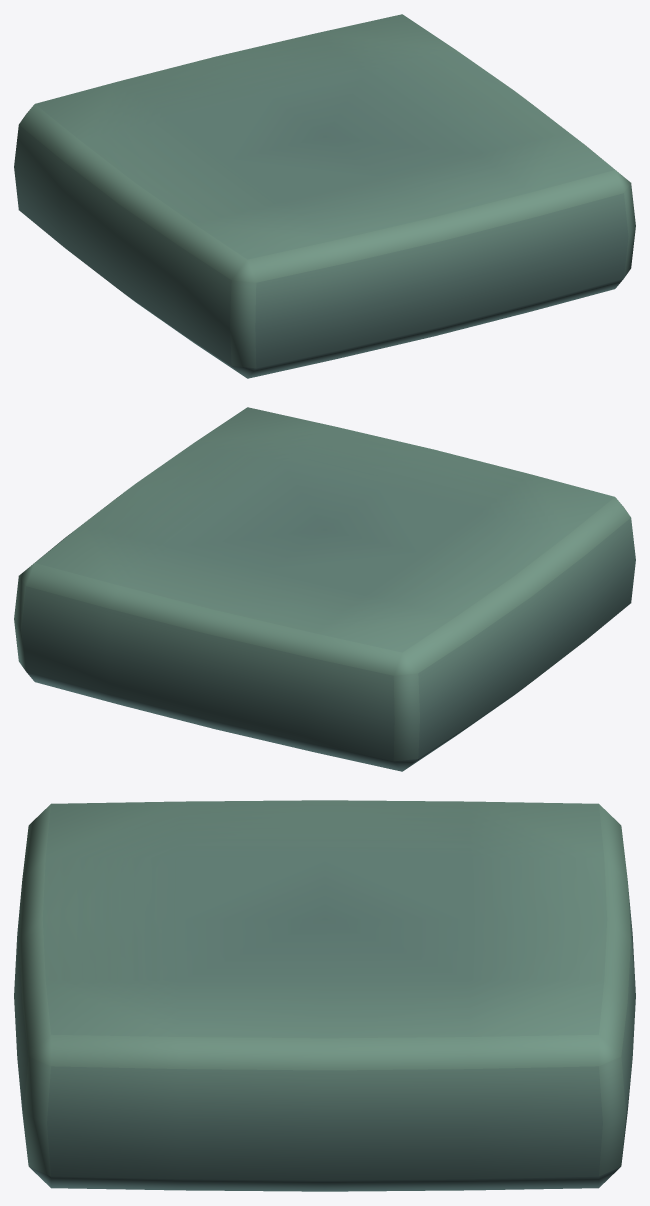
Rendered from cube_05_shade_1_LOD_setup.fbx.
3 renders of one model, top to bottom at view 1: azimuth 30°, elevation 25°; view 2: azimuth 150°, elevation 25°; view 3: azimuth 270°, elevation 25°, orthographic. The views are drawn at different scales.
Visible parts, largest first — view 1: cube_05_shade_1_LOD0; view 2: cube_05_shade_1_LOD0; view 3: cube_05_shade_1_LOD0.
Boxes of the visible parts, box(x1,y1,x2,y2) form: cube_05_shade_1_LOD0: box(14, 14, 635, 378); cube_05_shade_1_LOD0: box(14, 407, 635, 771); cube_05_shade_1_LOD0: box(14, 800, 635, 1191).
Size of what is drawn, in the model's own units: 214 by 58.2 by 214.
